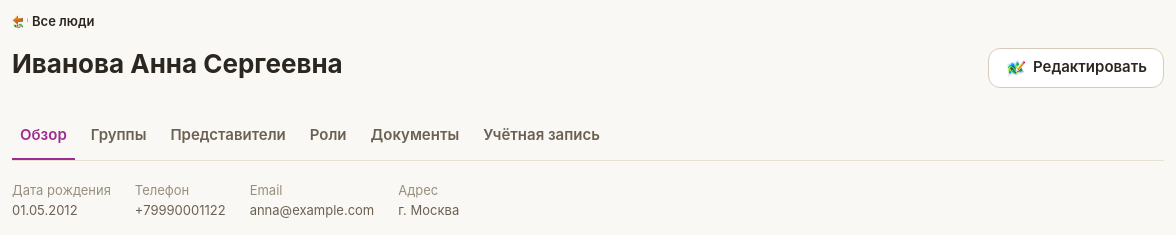
Scenario: PersonDetailPage › renders the person's group memberships without exposing ClubMembership
The image size is (1176, 235).
What coordinates should you click on to do the following:
click the tab "Группы"
I would click on:
 (119, 136)
Its box is x1=83 y1=112 x2=154 y2=160.
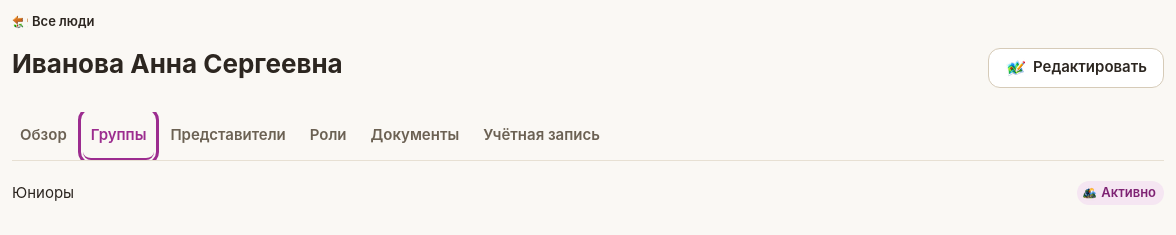
Check: the text "Юниоры" is shown, box x1=12 y1=182 x2=74 y2=204
Check: the text "Активно" is shown, box x1=1077 y1=181 x2=1164 y2=204
